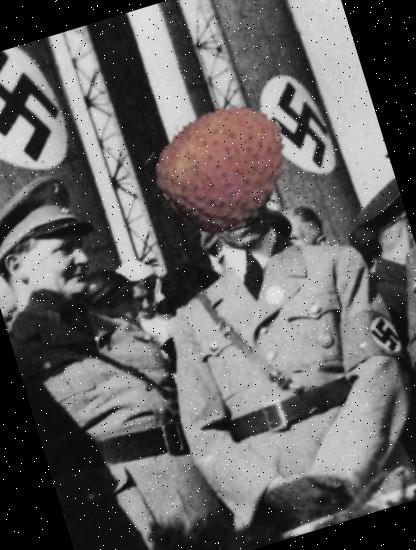Lychee: (142, 83, 312, 252)
